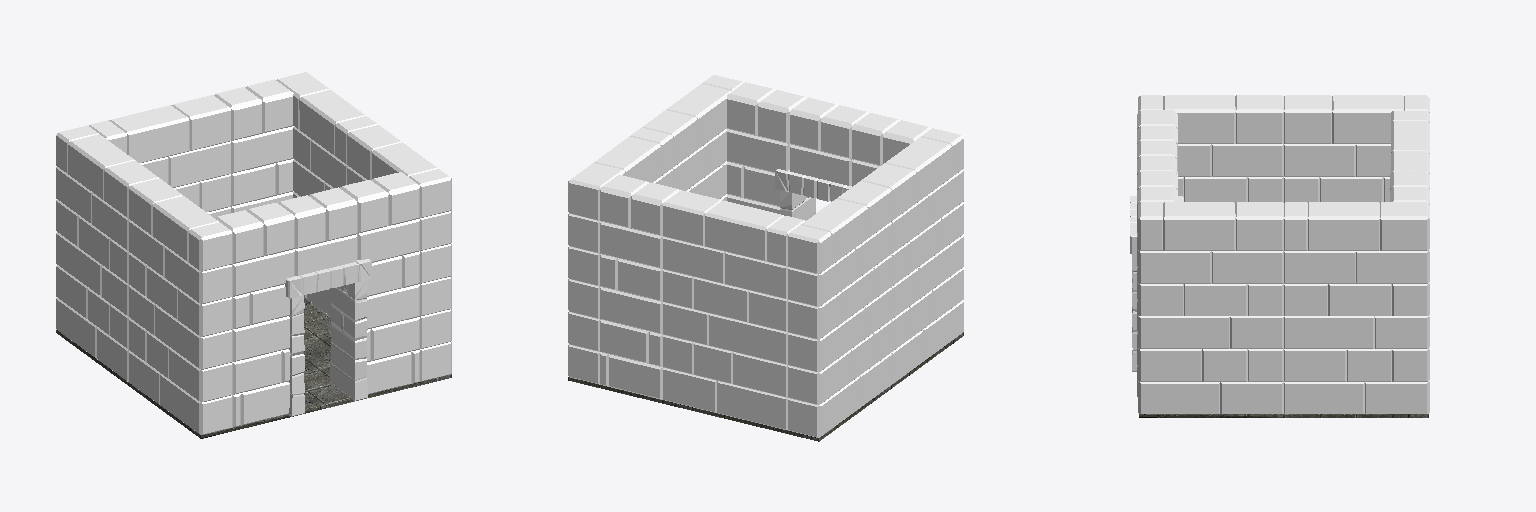
3 renders of one model, left to right at view 1: azimuth 30°, elevation 25°; view 2: azimuth 150°, elevation 25°; view 3: azimuth 270°, elevation 25°, orthographic.
Parts seen in each view (by area): view 1: Box3455, Box3456, Box001ui003, Box001ui002, Box3457, Box4132, Box001ui, Box3458, Box4133, Box4135, Box030, Box4137 (+4 smaller); view 2: Box4132, Box3456, Box3455, Box001ui, Box3458, Box001ui002, Box3457, Box4133, Box001ui003, Box4134, Box4135, Box024; view 3: Box3457, Box3458, Box3456, Box3455, Box4132, Box001ui002, Box001ui003, Box001ui, Box4133, Box026, Box030, Box4135.
Boxes of the visible parts, x1=… form: Box3455: x1=129, y1=178, x2=232, y2=434; Box3456: x1=56, y1=125, x2=158, y2=381; Box001ui003: x1=215, y1=203, x2=294, y2=427; Box001ui002: x1=340, y1=172, x2=419, y2=394; Box3457: x1=347, y1=125, x2=451, y2=381; Box4132: x1=89, y1=95, x2=230, y2=217; Box001ui: x1=214, y1=79, x2=293, y2=212; Box3458: x1=276, y1=72, x2=377, y2=315; Box4133: x1=278, y1=187, x2=357, y2=275; Box4135: x1=330, y1=280, x2=367, y2=400; Box030: x1=303, y1=333, x2=451, y2=407; Box4137: x1=289, y1=295, x2=304, y2=416; Box4132: x1=663, y1=190, x2=804, y2=429; Box3456: x1=788, y1=181, x2=891, y2=437; Box3455: x1=861, y1=128, x2=963, y2=383; Box001ui: x1=600, y1=175, x2=680, y2=399; Box3458: x1=568, y1=128, x2=672, y2=384; Box001ui002: x1=727, y1=82, x2=806, y2=213; Box3457: x1=642, y1=75, x2=743, y2=200; Box4133: x1=790, y1=97, x2=868, y2=185; Box001ui003: x1=851, y1=113, x2=931, y2=186; Box4134: x1=775, y1=169, x2=818, y2=197; Box4135: x1=780, y1=190, x2=815, y2=220; Box024: x1=694, y1=386, x2=890, y2=441; Box3457: x1=1138, y1=202, x2=1283, y2=414; Box3458: x1=1284, y1=202, x2=1429, y2=414; Box3456: x1=1284, y1=95, x2=1429, y2=202; Box3455: x1=1138, y1=95, x2=1283, y2=202; Box4132: x1=1391, y1=111, x2=1429, y2=173; Box001ui002: x1=1137, y1=171, x2=1177, y2=396; Box001ui003: x1=1137, y1=110, x2=1177, y2=174; Box001ui: x1=1390, y1=171, x2=1429, y2=204; Box4133: x1=1137, y1=141, x2=1176, y2=174; Box026: x1=1283, y1=414, x2=1428, y2=417; Box030: x1=1139, y1=414, x2=1283, y2=417; Box4135: x1=1132, y1=254, x2=1136, y2=371.
Size of the model in its own units: 4.04 by 3.08 by 4.16.
2 materials, 1 textured.